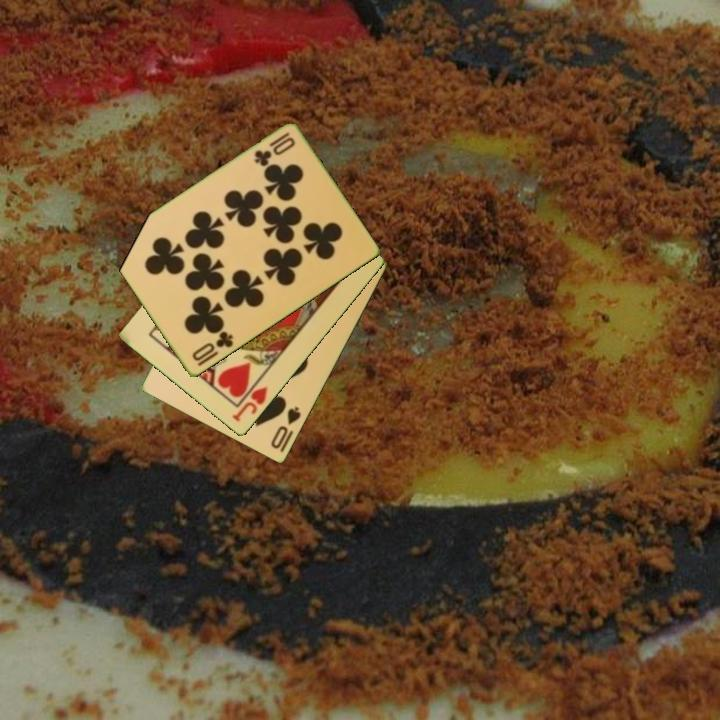10c: (251, 129, 298, 170), (189, 328, 236, 364)
10s: (267, 404, 304, 452)
Jh: (229, 383, 271, 425)
